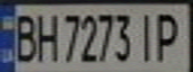2: (78, 9, 100, 63)
3: (112, 9, 136, 62)
7: (57, 9, 81, 63), (96, 9, 115, 62)
B: (9, 9, 39, 63)
H: (33, 8, 60, 63)
I: (133, 9, 160, 62)
P: (151, 8, 187, 63)
